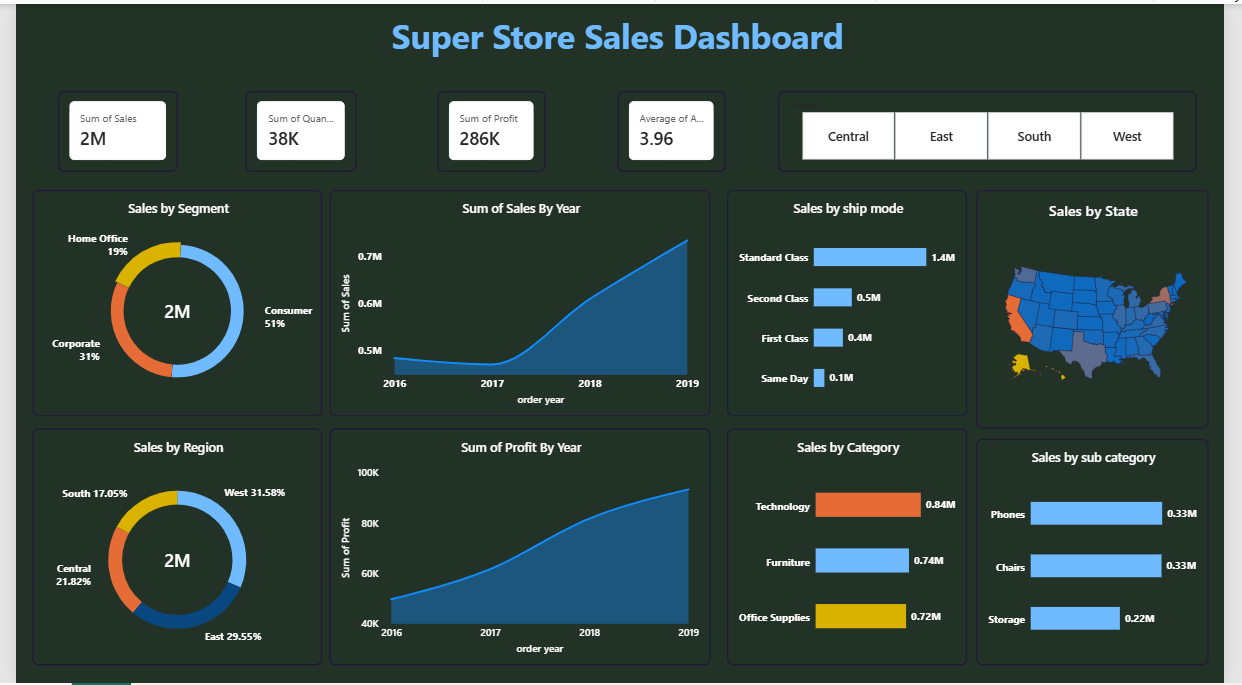

What the dashboard file says about the page in this screenshot:
{"tool":"powerbi","page":{"name":"Page 1","canvas":[1920,1080],"ordinal":0},"visuals":[{"type":"barChart","title":" Sales by Category","fields":{"Category":["Superstore.Category"],"Y":["Sum(Superstore.Sales)"]},"box":[1130.9,675.2,381.7,377],"z":0},{"type":"barChart","title":" Sales by sub category","fields":{"Category":["Superstore.Sub-Category"],"Y":["Sum(Superstore.Sales)"]},"box":[1527,691.9,369.8,360.3],"z":1000},{"type":"barChart","title":" Sales by ship mode","fields":{"Category":["Superstore.Ship Mode","Superstore.Category"],"Y":["Sum(Superstore.Sales)"]},"box":[1130.9,295.9,381.7,360.3],"z":2000},{"type":"stackedAreaChart","title":"Sum of Sales By Year","fields":{"Category":["Superstore.order year"],"Y":["Sum(Superstore.Sales)"]},"box":[498.7,295.9,606,360.3],"z":3000},{"type":"stackedAreaChart","title":"Sum of Profit By Year","fields":{"Category":["Superstore.order year"],"Y":["Sum(Superstore.Profit)"]},"box":[498.7,675.2,606,377],"z":4000},{"type":"donutChart","title":"Sales by Segment","fields":{"Category":["Superstore.Segment"],"Y":["Sum(Superstore.Sales)"]},"box":[26.2,295.9,460.5,360.3],"z":5000},{"type":"slicer","fields":{"Values":["Superstore.Region"]},"box":[1212,138.4,665.7,128.8],"z":6000},{"type":"donutChart","title":"Sales by Region","fields":{"Category":["Superstore.Region"],"Y":["Sum(Superstore.Sales)"]},"box":[26.2,675.2,460.5,377],"z":7000},{"type":"textbox","box":[35.8,0,1841.9,116.9],"z":7002},{"type":"cardVisual","fields":{"Data":["Sum(Superstore.Sales)"]},"box":[66.8,138.4,190.9,128.8],"z":7003},{"type":"cardVisual","fields":{"Data":["Sum(Superstore.Quantity)"]},"box":[365,138.4,176.6,128.8],"z":7004},{"type":"cardVisual","fields":{"Data":["Sum(Superstore.Profit)"]},"box":[670.4,138.4,171.8,128.8],"z":7005},{"type":"cardVisual","fields":{"Data":["Avg(Superstore.AvgDelivary)"]},"box":[956.8,138.4,171.8,128.8],"z":7006},{"type":"shapeMap","title":"Sales by State","fields":{"Category":["Superstore.State"],"Value":["Sum(Superstore.Sales)"]},"box":[1527,295.9,369.8,379.4],"z":7007}]}

Visuals, with their boxes in screenshot pixels (x1, y1, x2, y2), scaled from the page's 1920x1080 canvas onto the 1242x685 screenshot:
" Sales by Category" barChart: (x1=732, y1=428, x2=978, y2=667)
" Sales by sub category" barChart: (x1=988, y1=439, x2=1227, y2=667)
" Sales by ship mode" barChart: (x1=732, y1=188, x2=978, y2=416)
"Sum of Sales By Year" stackedAreaChart: (x1=323, y1=188, x2=715, y2=416)
"Sum of Profit By Year" stackedAreaChart: (x1=323, y1=428, x2=715, y2=667)
"Sales by Segment" donutChart: (x1=17, y1=188, x2=315, y2=416)
slicer - Superstore.Region: (x1=784, y1=88, x2=1215, y2=169)
"Sales by Region" donutChart: (x1=17, y1=428, x2=315, y2=667)
textbox: (x1=23, y1=0, x2=1215, y2=74)
cardVisual - Sum(Superstore.Sales): (x1=43, y1=88, x2=167, y2=169)
cardVisual - Sum(Superstore.Quantity): (x1=236, y1=88, x2=350, y2=169)
cardVisual - Sum(Superstore.Profit): (x1=434, y1=88, x2=545, y2=169)
cardVisual - Avg(Superstore.AvgDelivary): (x1=619, y1=88, x2=730, y2=169)
"Sales by State" shapeMap: (x1=988, y1=188, x2=1227, y2=428)
